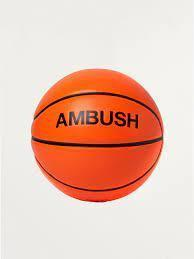ball: (31, 69, 162, 201)
